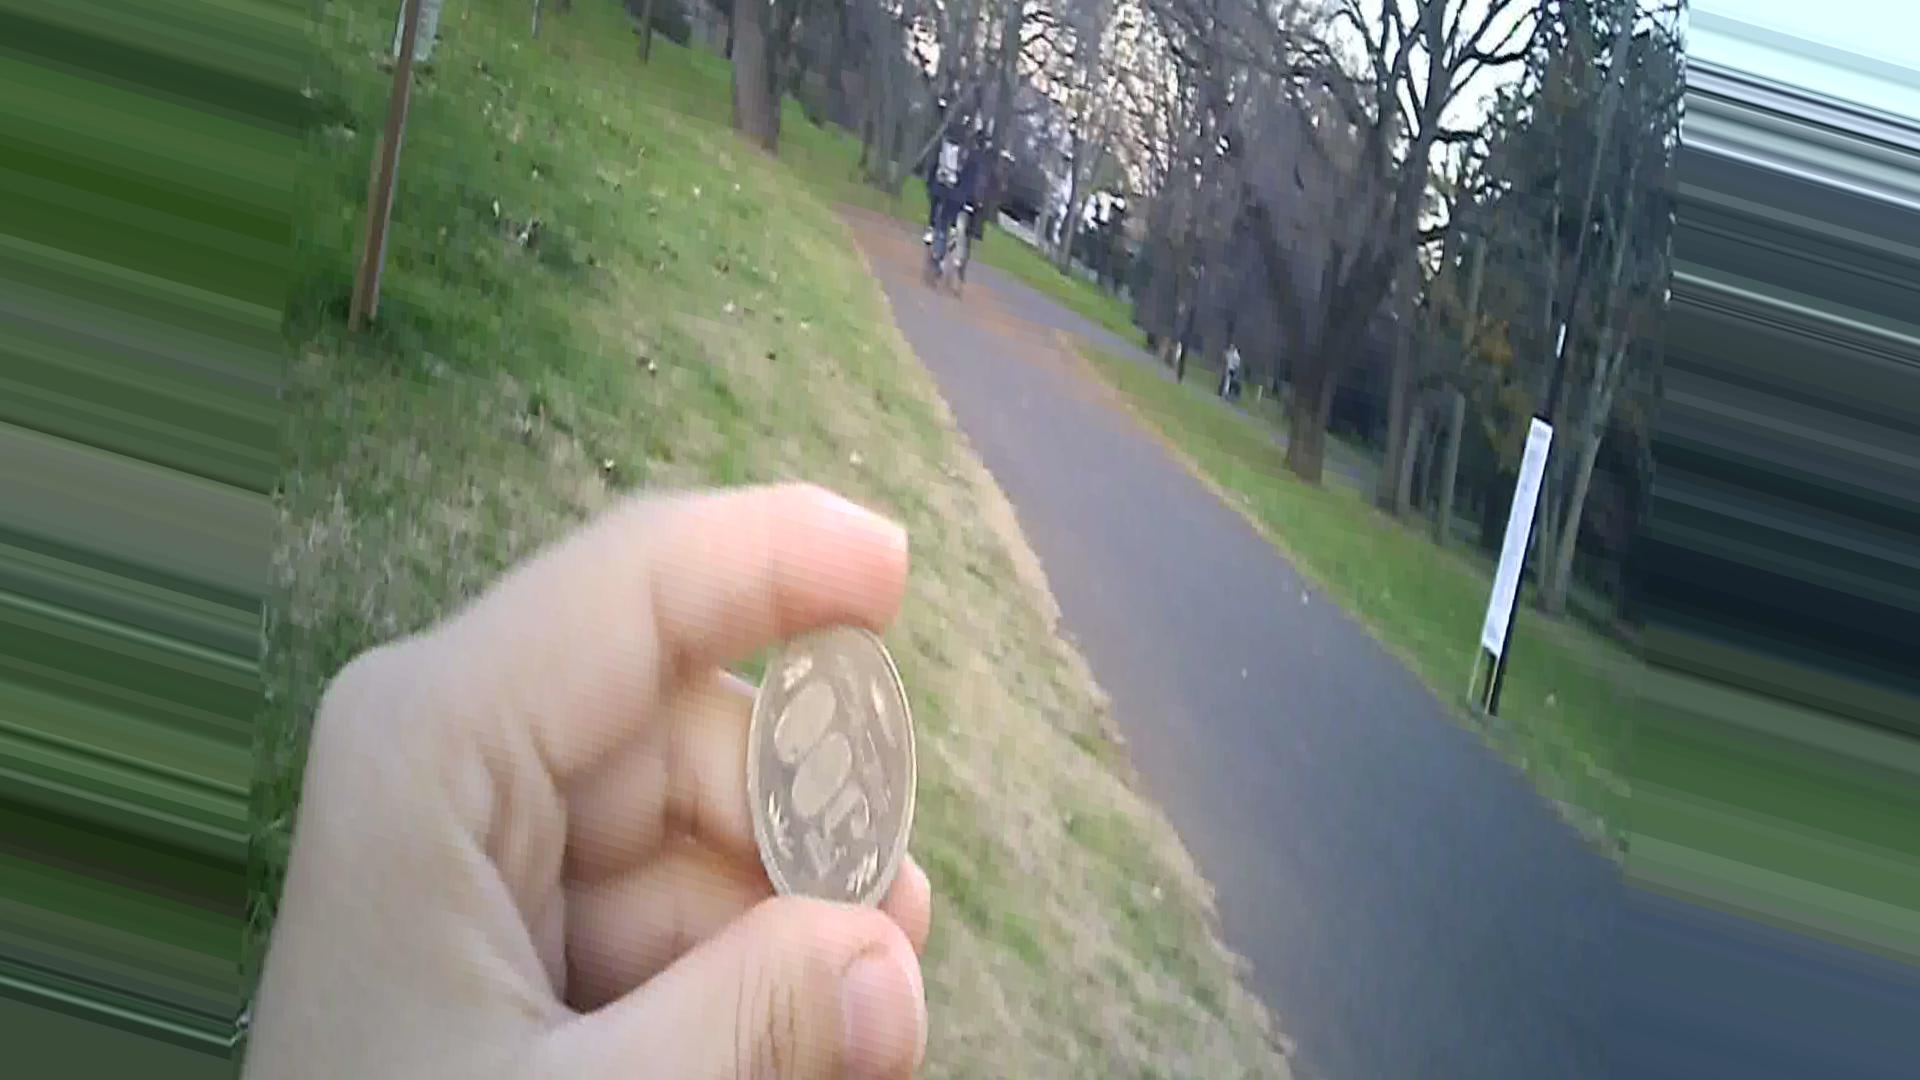500 Yen: (735, 607, 978, 947)
